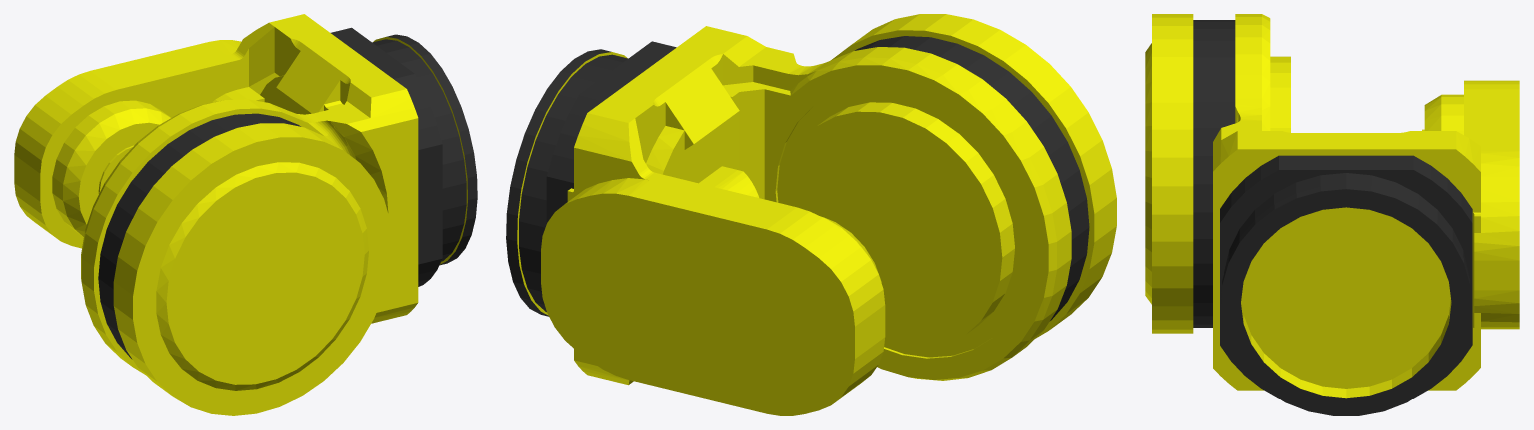
3 renders of one model, left to right at view 1: azimuth 30°, elevation 25°; view 2: azimuth 150°, elevation 25°; view 3: azimuth 270°, elevation 25°, orthographic. The views are drawn at different scales.
Visible parts, largest first — view 1: New object; view 2: New object; view 3: New object.
Boxes of the visible parts, x1,y1,x2,y2 form: New object: (14, 14, 477, 415); New object: (506, 14, 1116, 415); New object: (1145, 14, 1519, 415).
Bounding box in the file's own units: 0.2756 × 0.2223 × 0.1898.
